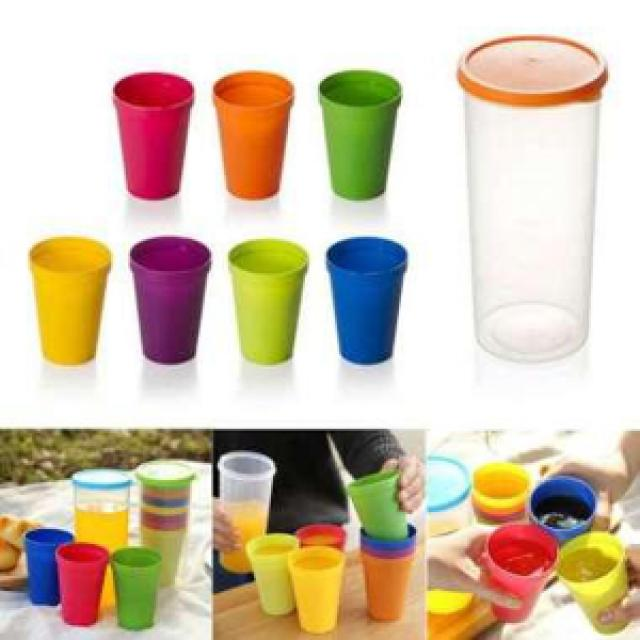plastic cup: (314, 64, 405, 207), (109, 66, 198, 205), (209, 66, 299, 203), (322, 235, 410, 371), (226, 233, 312, 371), (126, 233, 213, 369), (28, 233, 113, 371), (555, 531, 638, 638), (480, 521, 561, 625), (354, 523, 420, 627), (286, 544, 348, 631), (53, 542, 113, 631), (341, 465, 410, 542), (527, 474, 597, 544), (21, 523, 77, 610), (109, 544, 164, 631), (245, 531, 299, 617)
